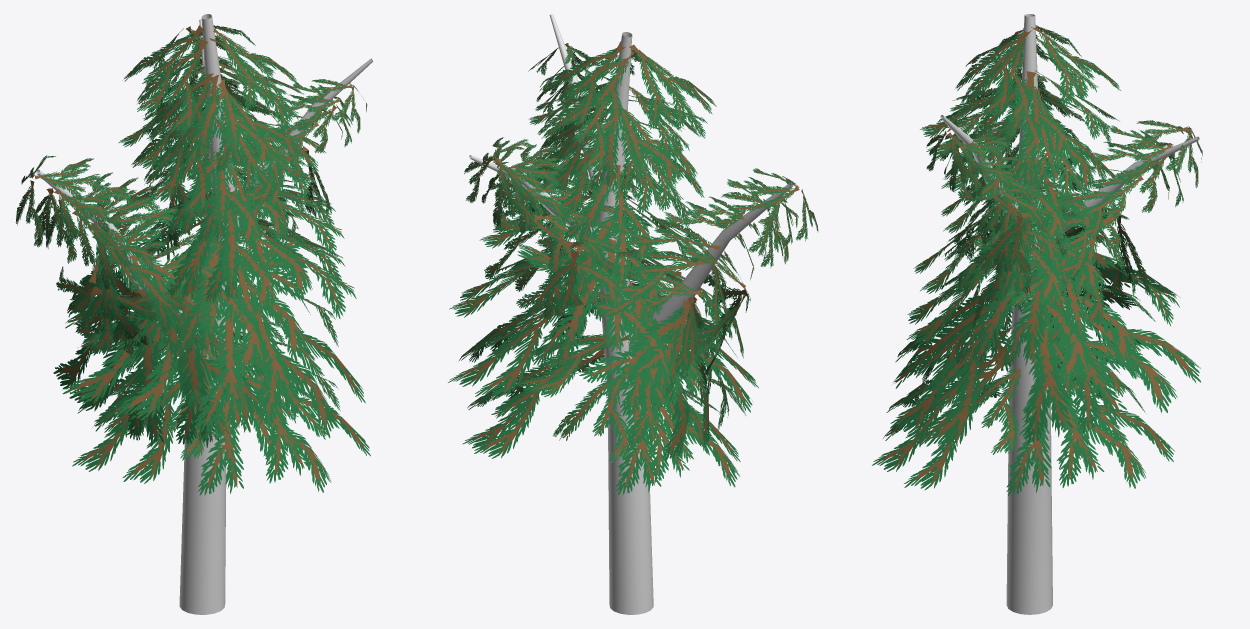
The model's file is Tree.fbx.
3 renders of one model, left to right at view 1: azimuth 30°, elevation 25°; view 2: azimuth 150°, elevation 25°; view 3: azimuth 270°, elevation 25°, orthographic. The views are drawn at different scales.
Visible parts, largest first — view 1: Cylinder; view 2: Cylinder; view 3: Cylinder.
Part boxes in pixels (x1,y1,x2,y2): Cylinder: (15,14,373,614); Cylinder: (448,14,818,614); Cylinder: (872,14,1202,614).
Bounding box in the file's own units: 18.26 × 28.17 × 16.64.
